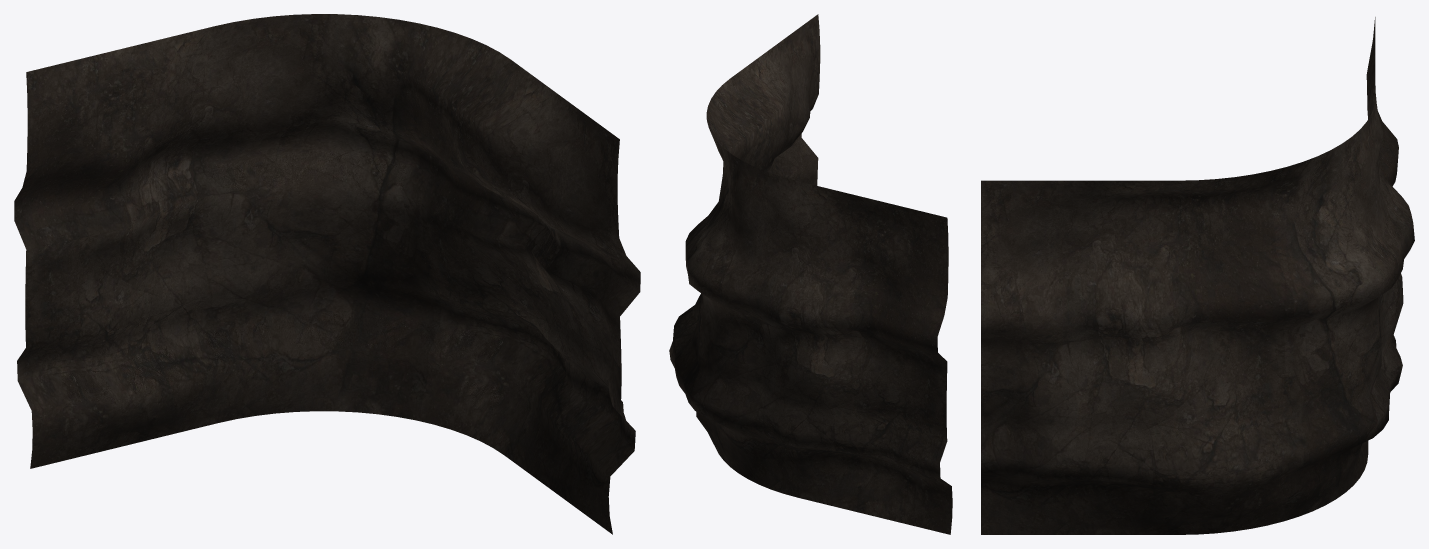
Rendered from cliff_wall_corner_outer_mid.glb.
3 views of the same model, side by side, from view 1: azimuth 30°, elevation 25°; view 2: azimuth 150°, elevation 25°; view 3: azimuth 270°, elevation 25° (orthographic). The views are drawn at different scales.
Visible parts, largest first — view 1: cliff_wall_corner_outer_mid; view 2: cliff_wall_corner_outer_mid; view 3: cliff_wall_corner_outer_mid.
Part boxes in pixels (x1=…): cliff_wall_corner_outer_mid: x1=14, y1=14, x2=640, y2=534; cliff_wall_corner_outer_mid: x1=669, y1=14, x2=952, y2=534; cliff_wall_corner_outer_mid: x1=981, y1=17, x2=1414, y2=534.
Size of the model in its own units: 4.53 by 4 by 4.4.
1 material, 1 textured.
